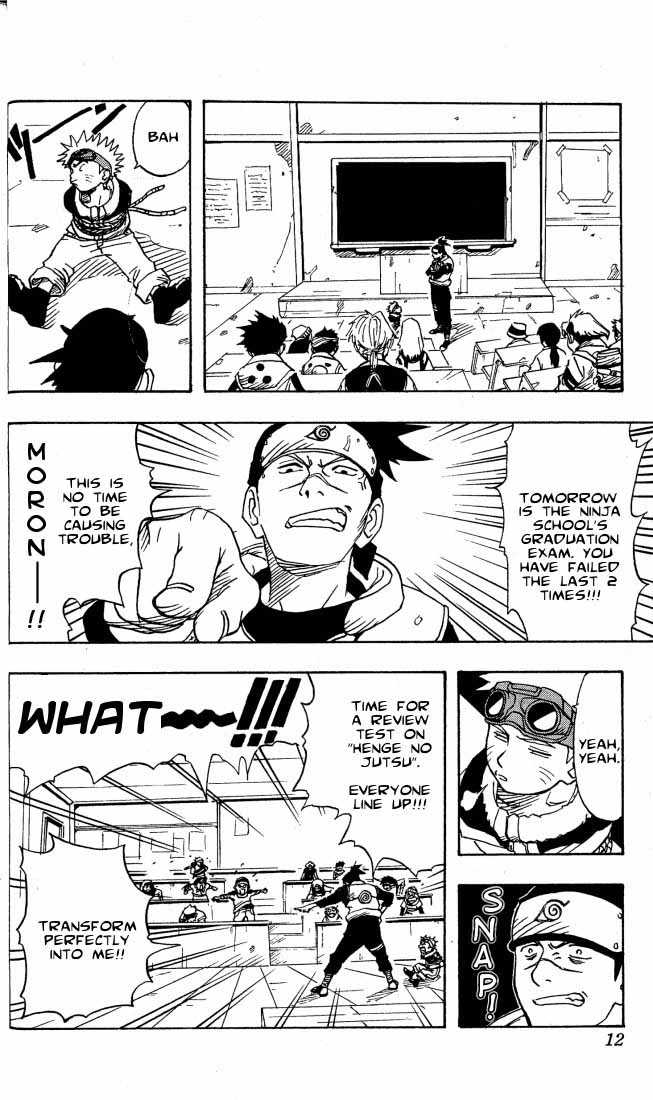bubble: (9, 672, 315, 799), (484, 422, 652, 641), (15, 833, 181, 1021), (293, 672, 445, 877), (56, 422, 170, 611), (8, 422, 72, 644), (573, 671, 624, 821), (133, 101, 191, 176)
